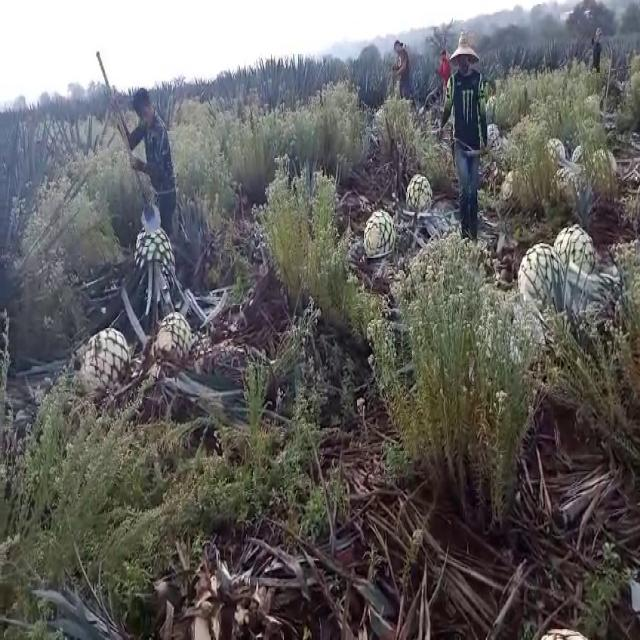agave: (79, 327, 133, 398), (132, 223, 176, 303), (518, 238, 565, 309), (554, 220, 596, 285), (362, 206, 396, 264), (155, 312, 191, 362), (405, 172, 432, 214), (544, 138, 564, 170)
